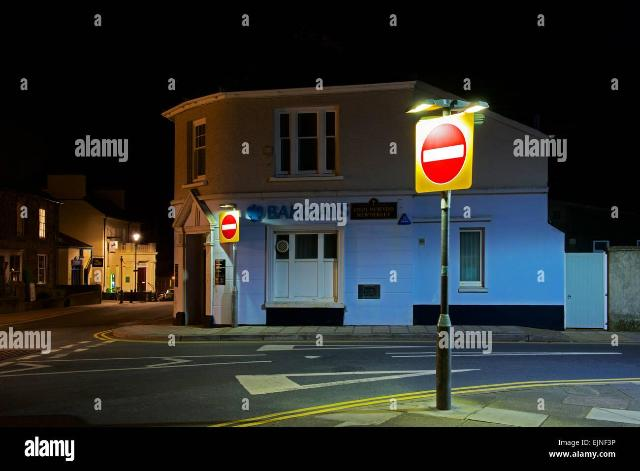B2: (423, 124, 469, 184), (218, 210, 240, 242)
